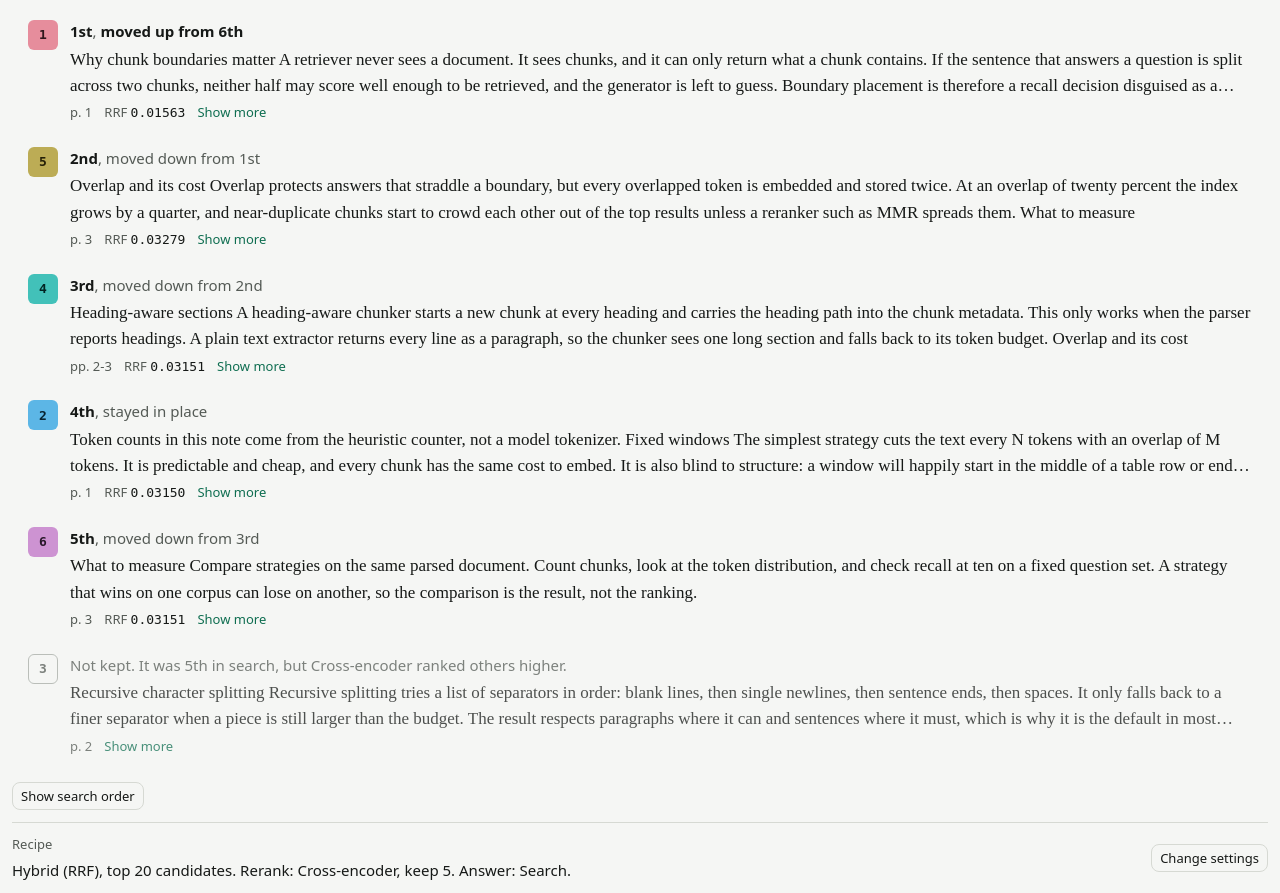
Test case: below the wide layout (phone and tablet) › shows the reranked list first, draws no lines, and folds the search order under a closed disclosure
(page scrolled)
Click the button "Show search order" at (78, 796), box left=12, top=782, right=144, bottom=810
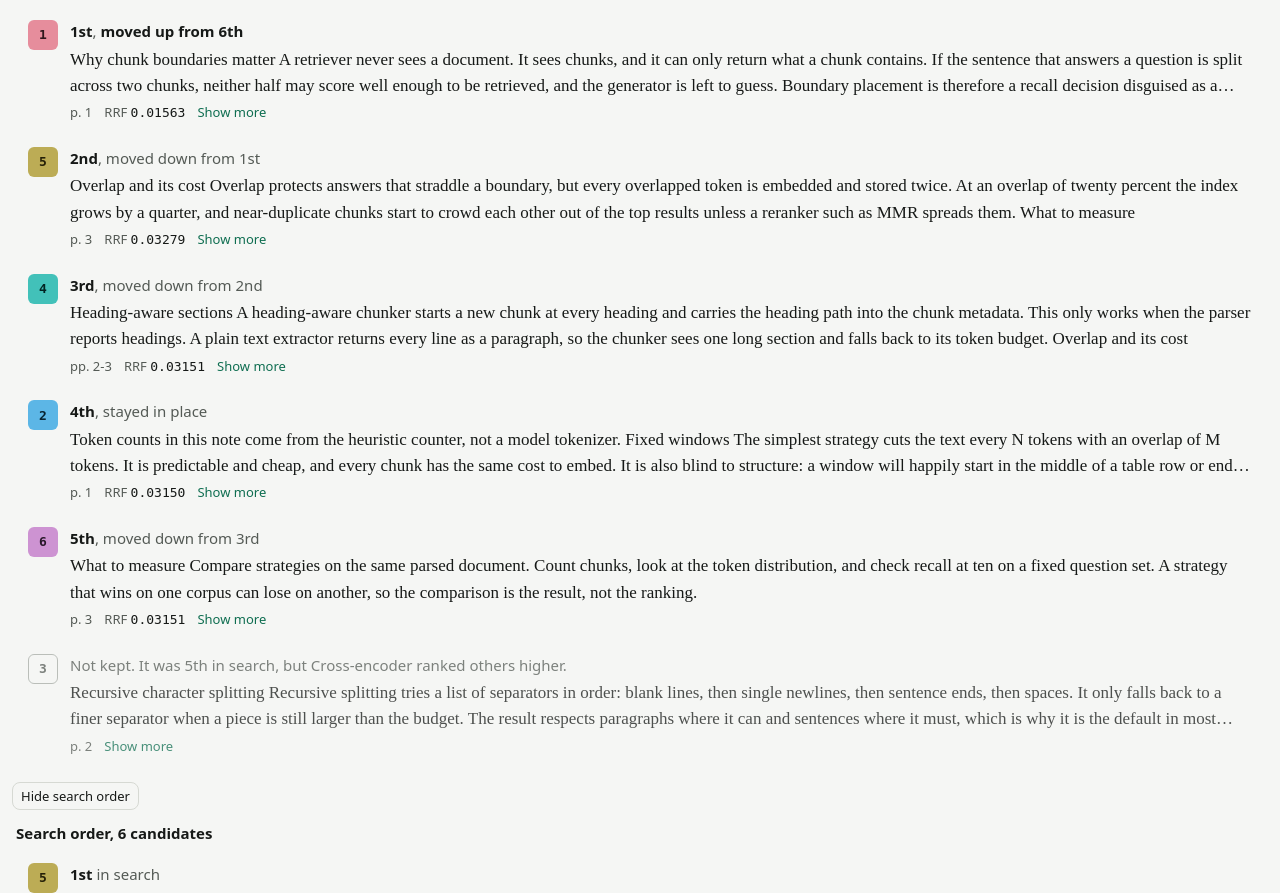
Result: the button "Hide search order" is expanded at left=12, top=782, right=139, bottom=810
